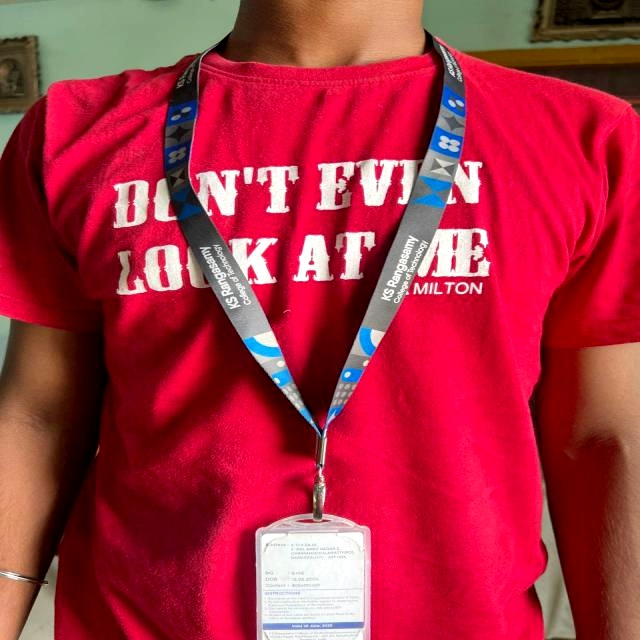ID_card: (150, 74, 481, 640)
